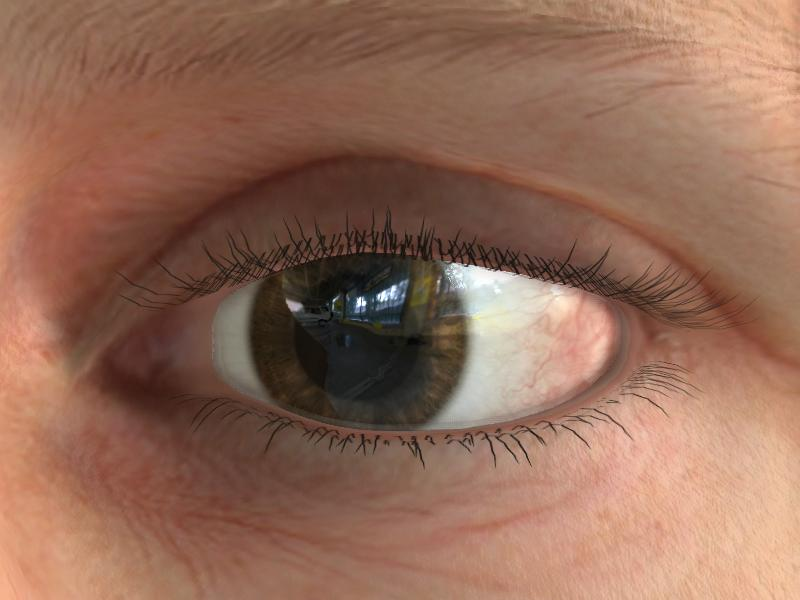eye: (247, 253, 468, 435)
